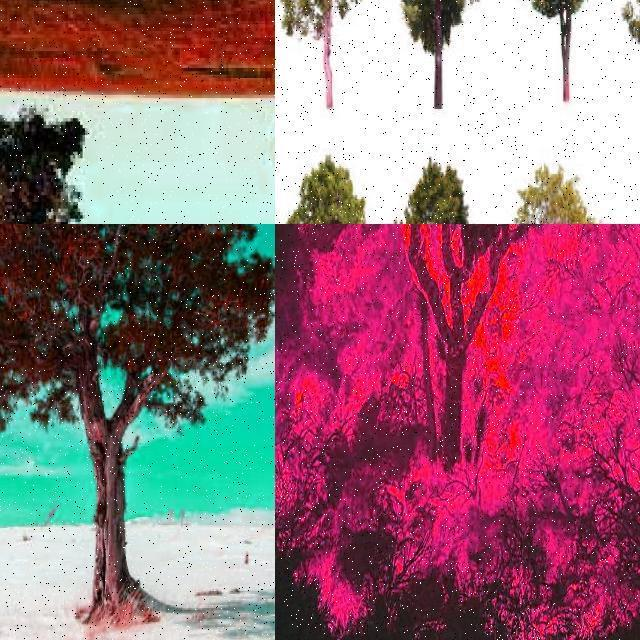tree: (1, 224, 276, 612), (394, 224, 550, 462), (0, 88, 116, 224), (505, 0, 613, 132), (280, 0, 374, 140), (398, 0, 487, 138), (278, 156, 378, 224), (504, 164, 612, 224), (395, 160, 475, 224), (275, 0, 307, 140)
